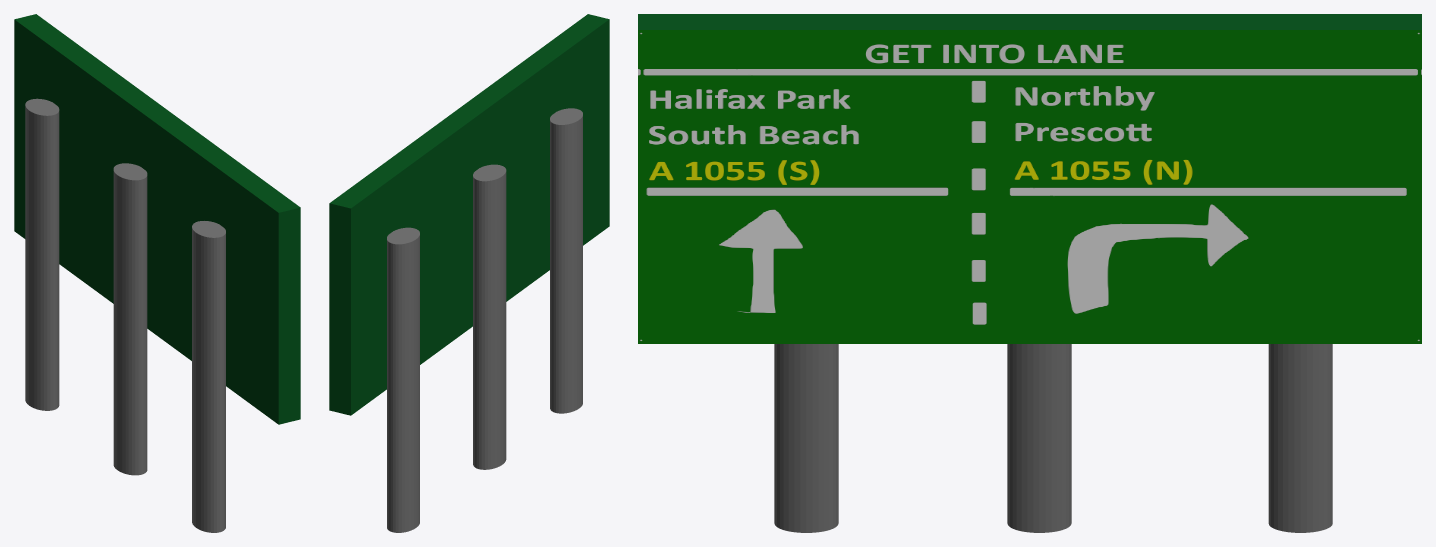
File: HalifaxParkRoundaboutSign1.fbx
The picture shows the model from 3 angles, left to right: view 1: azimuth 30°, elevation 25°; view 2: azimuth 150°, elevation 25°; view 3: azimuth 270°, elevation 25°; orthographic projection. The views are drawn at different scales.
Parts seen in each view (by area): view 1: HalifaxParkRoundaboutBoard, SignPoles.001, SignPoles.002, SignPoles; view 2: HalifaxParkRoundaboutBoard, SignPoles.001, SignPoles, SignPoles.002; view 3: HalifaxParkRoundaboutBoard, SignPoles, SignPoles.001, SignPoles.002.
Boxes of the visible parts, x1,y1,x2,y2 form: HalifaxParkRoundaboutBoard: [14, 14, 300, 424]; SignPoles.001: [113, 163, 147, 475]; SignPoles.002: [25, 98, 59, 410]; SignPoles: [192, 221, 225, 532]; HalifaxParkRoundaboutBoard: [329, 14, 609, 415]; SignPoles.001: [473, 164, 506, 469]; SignPoles: [550, 108, 582, 413]; SignPoles.002: [387, 227, 419, 532]; HalifaxParkRoundaboutBoard: [638, 14, 1421, 343]; SignPoles: [774, 344, 838, 532]; SignPoles.001: [1007, 344, 1071, 532]; SignPoles.002: [1268, 344, 1332, 532].
Bounding box in the file's own units: 78.66 × 548 × 750.
